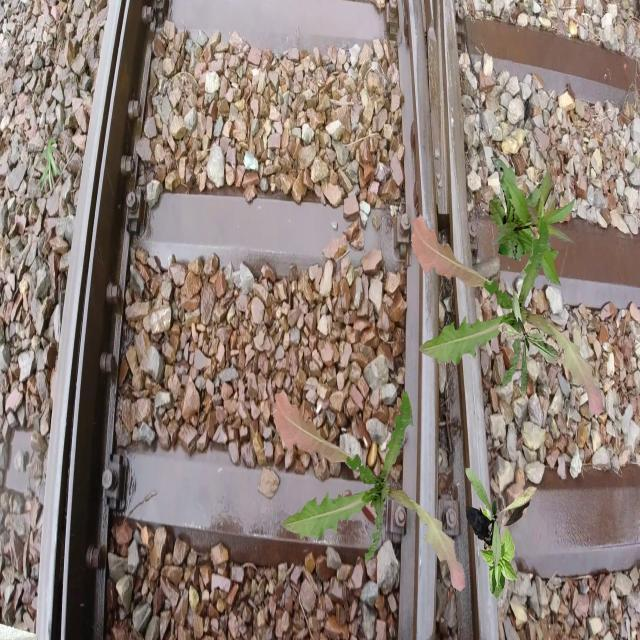Plant: (273, 389, 466, 592), (411, 214, 604, 416), (489, 157, 578, 287), (497, 285, 561, 397), (465, 468, 536, 568), (471, 504, 519, 599), (35, 137, 62, 193)
